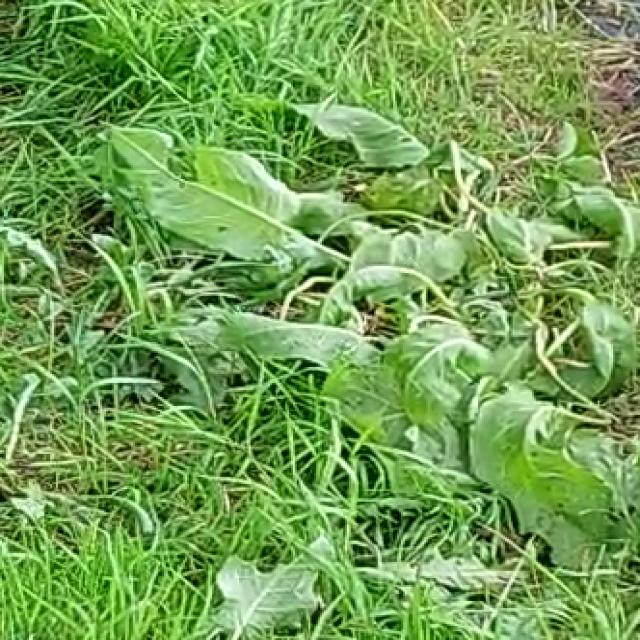organic waste: (129, 51, 621, 507)
